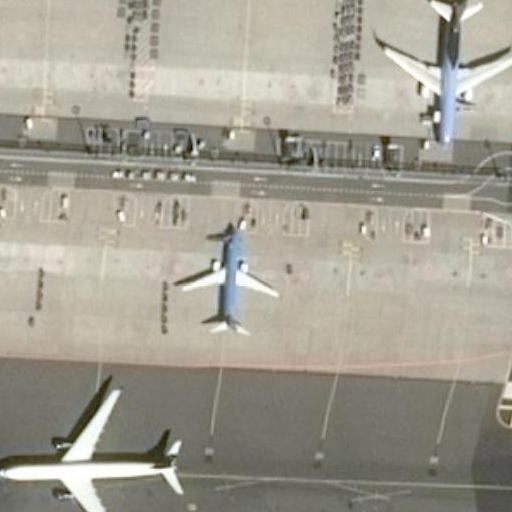Aircraft: (0, 381, 191, 512), (375, 0, 512, 150), (171, 224, 279, 334)
